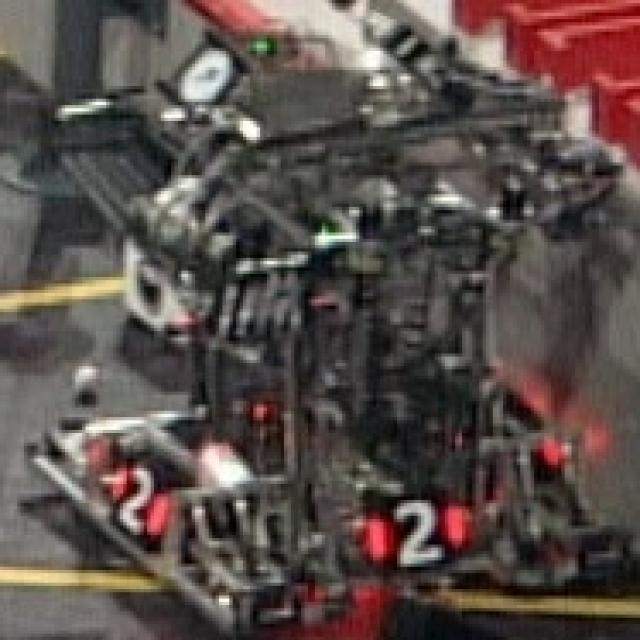R2: (354, 487, 467, 567), (96, 455, 168, 535)
